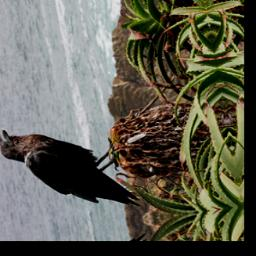Crow: (0, 108, 144, 227)
